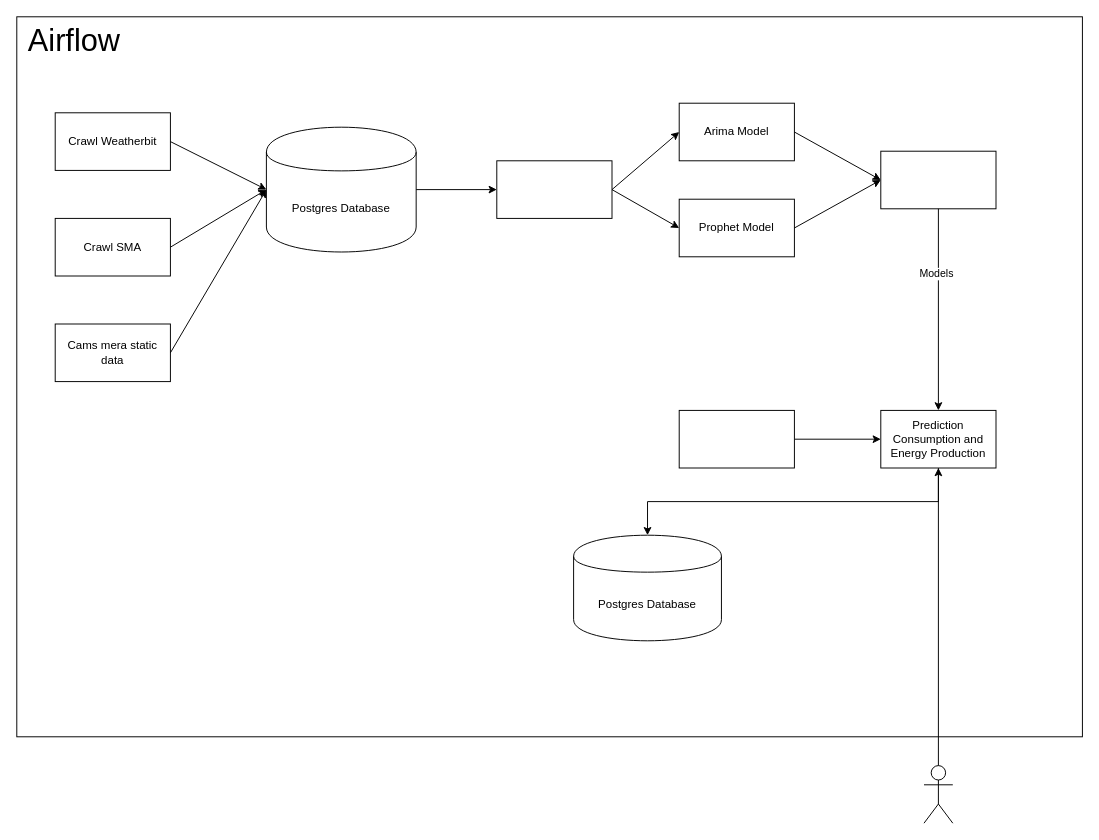
This 1099x840 diagram has some shape labels left out. The shapes that lost their labels are listed below. From the top down, each one's centre as x and y in pixels, then its label:
At pixel 554 189: "Preprocessing".
At pixel 938 179: "S3 Bucket".
At pixel 736 438: "Weather Forecast for next 120h".
